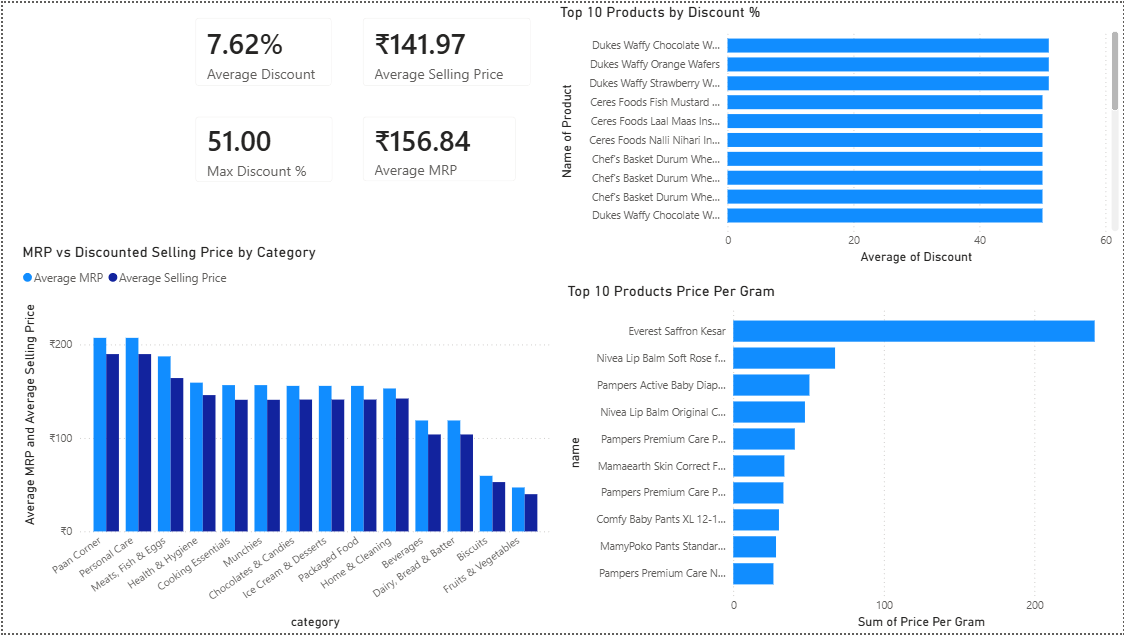

The page's visual inventory and layout, read from the dashboard file:
{"tool":"powerbi","page":{"name":"Page 2","canvas":[1280,720],"ordinal":1},"visuals":[{"type":"cardVisual","fields":{"Data":["public zepto.Average MRP"]},"box":[0,0,191.2,98.8],"z":0},{"type":"cardVisual","fields":{"Data":["public zepto.Average Discount"]},"box":[0,98.8,191.2,112.5],"z":1000},{"type":"cardVisual","fields":{"Data":["public zepto.Average Selling Price"]},"box":[203,15.9,204.2,166.3],"z":2000},{"type":"clusteredColumnChart","title":"MRP vs Discounted Selling Price by Category","fields":{"Category":["public zepto.category"],"Y":["public zepto.Average MRP","public zepto.Average Selling Price"]},"box":[17.5,273.8,448.8,446.2],"z":3000},{"type":"clusteredBarChart","title":"Top 10 Most Discounted Products","fields":{"Category":["public zepto.name"],"Y":["Avg(public zepto.discountpercent)"]},"box":[631.2,0,648.8,303.8],"z":4000},{"type":"hundredPercentStackedBarChart","fields":{"Category":["Zepto.name"],"Y":["Sum(Zepto.Price Per Gram)"]},"box":[476.9,304.5,635.9,415.8],"z":4001}]}

Visuals, with their boxes in screenshot pixels (x1, y1, x2, y2), scaled from the page's 1280x720 canvas onto the 1124x635 screenshot:
cardVisual - public zepto.Average MRP: <bbox>0, 0, 168, 87</bbox>
cardVisual - public zepto.Average Discount: <bbox>0, 87, 168, 186</bbox>
cardVisual - public zepto.Average Selling Price: <bbox>178, 14, 358, 161</bbox>
"MRP vs Discounted Selling Price by Category" clusteredColumnChart: <bbox>15, 241, 409, 634</bbox>
"Top 10 Most Discounted Products" clusteredBarChart: <bbox>554, 0, 1123, 268</bbox>
hundredPercentStackedBarChart - Zepto.name x Sum(Zepto.Price Per Gram): <bbox>419, 269, 977, 634</bbox>
